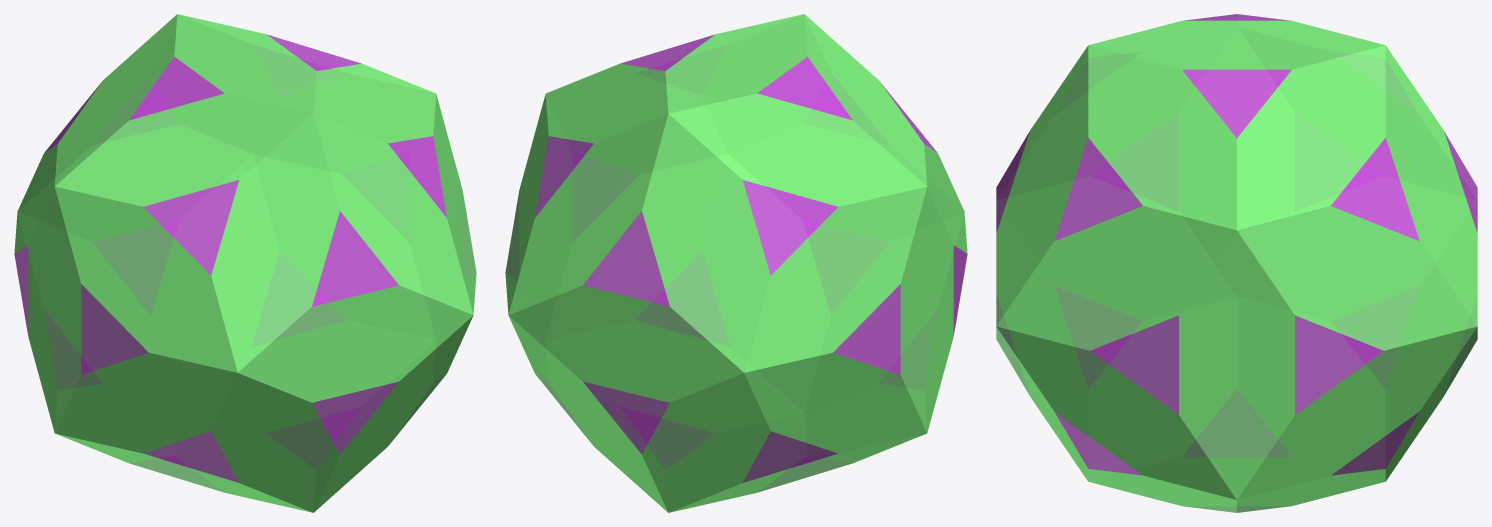
Rendered from ChamferedIcosahedron.obj.
3 renders of one model, left to right at view 1: azimuth 30°, elevation 25°; view 2: azimuth 150°, elevation 25°; view 3: azimuth 270°, elevation 25°, orthographic. The views are drawn at different scales.
Size of the model in its own units: 4.37 by 4.37 by 4.37.
